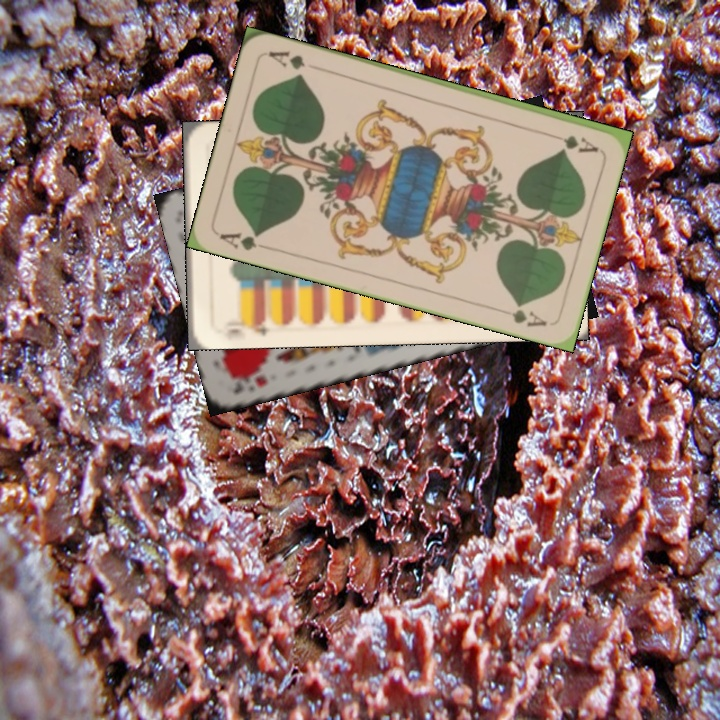E10: (212, 312, 272, 340)
GA: (215, 228, 273, 254), (543, 129, 601, 155)
HK: (227, 366, 270, 397)
